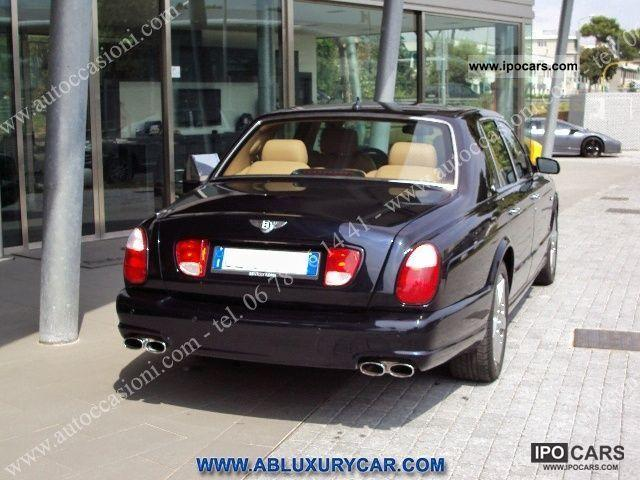Sedan: (115, 97, 560, 383)
